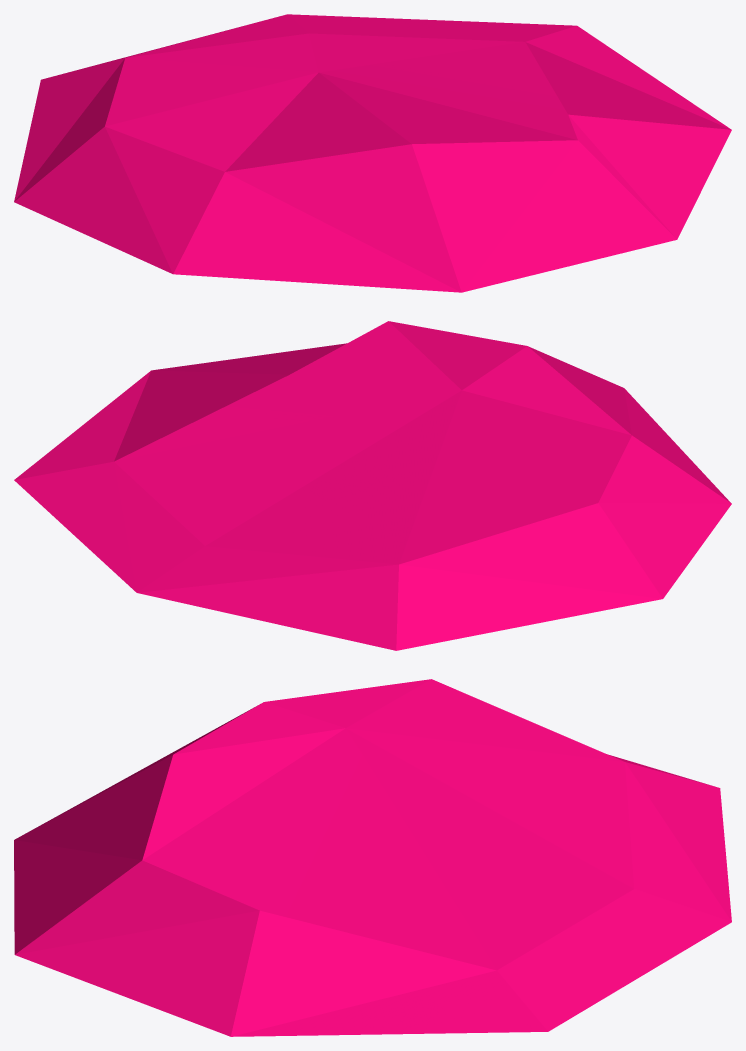
Rendered from SM_SS_Stone_2.fbx.
3 views of the same model, one above another, from view 1: azimuth 30°, elevation 25°; view 2: azimuth 150°, elevation 25°; view 3: azimuth 270°, elevation 25° (orthographic). The views are drawn at different scales.
Visible parts, largest first — view 1: SM_SS_Stone_1; view 2: SM_SS_Stone_1; view 3: SM_SS_Stone_1.
Part boxes in pixels (box(x1,y1,x2,y2)): SM_SS_Stone_1: box(14, 14, 731, 292); SM_SS_Stone_1: box(14, 321, 731, 650); SM_SS_Stone_1: box(14, 679, 731, 1036).
Bounding box in the file's own units: 99.99 × 92.96 × 16.65.
